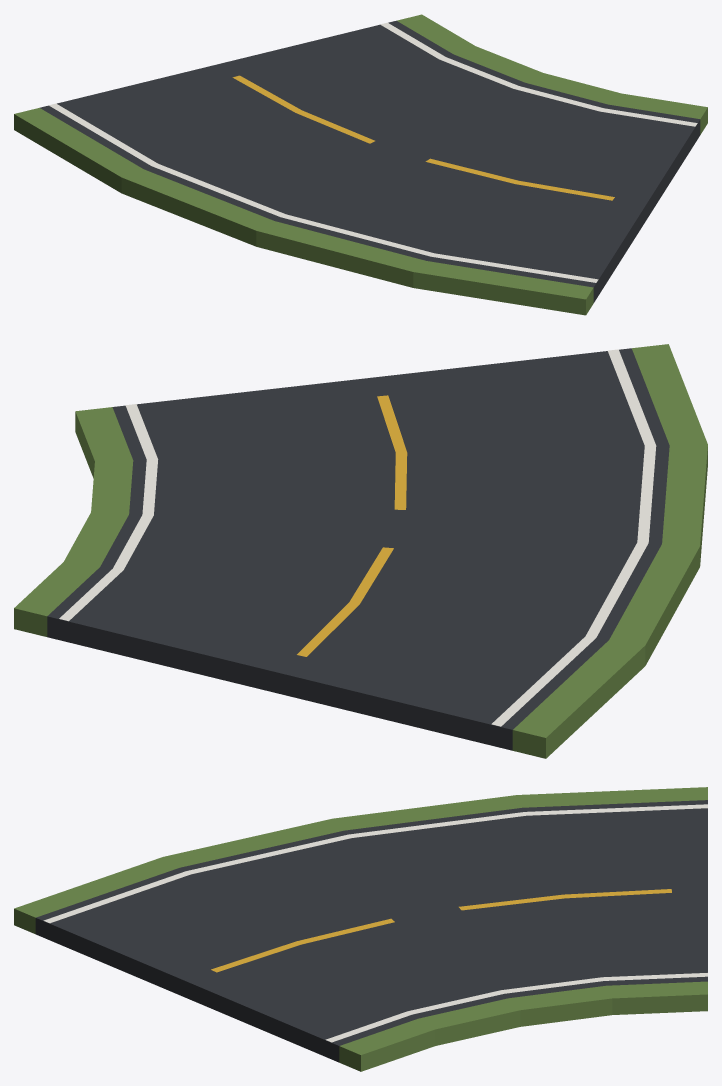
File: Road_2Lane_NoSidewalk_Curve45_L.glb
The picture shows the model from 3 angles, top to bottom: view 1: azimuth 30°, elevation 25°; view 2: azimuth 150°, elevation 25°; view 3: azimuth 270°, elevation 25°; orthographic projection. The views are drawn at different scales.
Visible parts, largest first — view 1: Road_2Lane_NoSidewalk_Curve45_L_Asphalt, Road_2Lane_NoSidewalk_Curve45_L_Grass-edge, Road_2Lane_NoSidewalk_Curve45_L_PaintWhite, Road_2Lane_NoSidewalk_Curve45_L_PaintYellow; view 2: Road_2Lane_NoSidewalk_Curve45_L_Asphalt, Road_2Lane_NoSidewalk_Curve45_L_Grass-edge, Road_2Lane_NoSidewalk_Curve45_L_PaintWhite, Road_2Lane_NoSidewalk_Curve45_L_PaintYellow; view 3: Road_2Lane_NoSidewalk_Curve45_L_Asphalt, Road_2Lane_NoSidewalk_Curve45_L_Grass-edge, Road_2Lane_NoSidewalk_Curve45_L_PaintWhite, Road_2Lane_NoSidewalk_Curve45_L_PaintYellow.
Boxes of the visible parts, x1,y1,x2,y2 form: Road_2Lane_NoSidewalk_Curve45_L_Asphalt: [40, 20, 700, 302]; Road_2Lane_NoSidewalk_Curve45_L_Grass-edge: [14, 14, 707, 315]; Road_2Lane_NoSidewalk_Curve45_L_PaintWhite: [49, 22, 697, 282]; Road_2Lane_NoSidewalk_Curve45_L_PaintYellow: [232, 75, 614, 200]; Road_2Lane_NoSidewalk_Curve45_L_Asphalt: [47, 348, 669, 750]; Road_2Lane_NoSidewalk_Curve45_L_Grass-edge: [14, 344, 707, 758]; Road_2Lane_NoSidewalk_Curve45_L_PaintWhite: [59, 349, 656, 726]; Road_2Lane_NoSidewalk_Curve45_L_PaintYellow: [297, 395, 407, 656]; Road_2Lane_NoSidewalk_Curve45_L_Asphalt: [35, 800, 707, 1062]; Road_2Lane_NoSidewalk_Curve45_L_Grass-edge: [14, 787, 707, 1071]; Road_2Lane_NoSidewalk_Curve45_L_PaintWhite: [43, 804, 707, 1042]; Road_2Lane_NoSidewalk_Curve45_L_PaintYellow: [211, 889, 671, 972].
Bounding box in the file's own units: 10.34 × 0.305 × 11.31.
